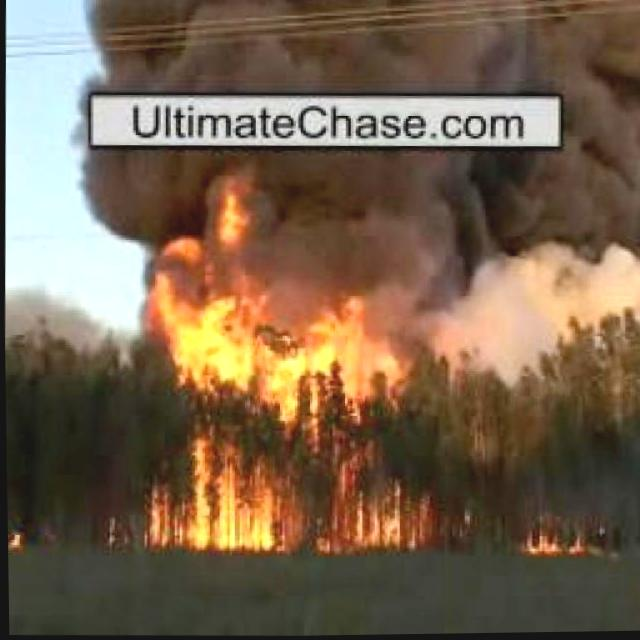Fire: (132, 221, 453, 554), (518, 517, 592, 555)
Smoke: (70, 142, 640, 262), (83, 0, 640, 102)
